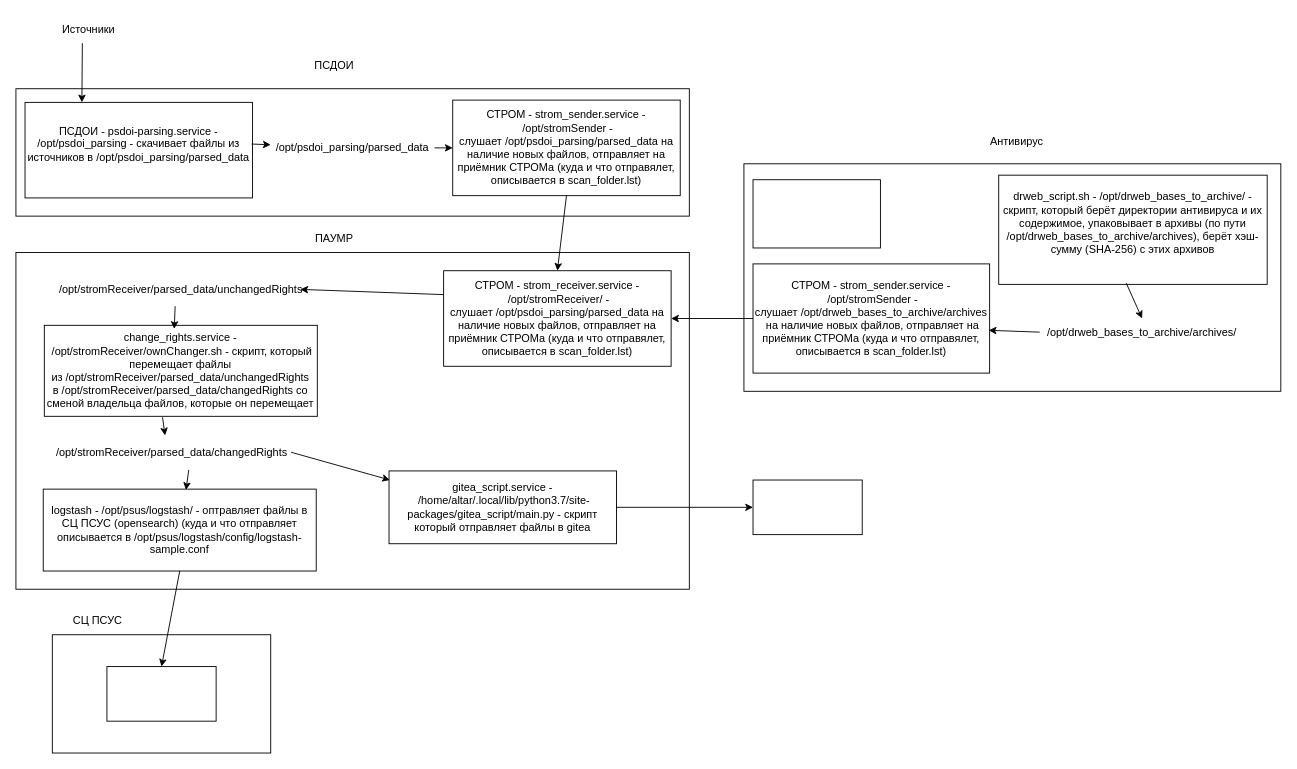
This 1297x769 diagram has some shape labels left out. Each missing label, with the box of its shape:
DrWeb - антивирус, у которого берутся папки с базами: (752, 179, 880, 248)
Gitea: (752, 479, 862, 535)
opensearch: (106, 666, 216, 721)
